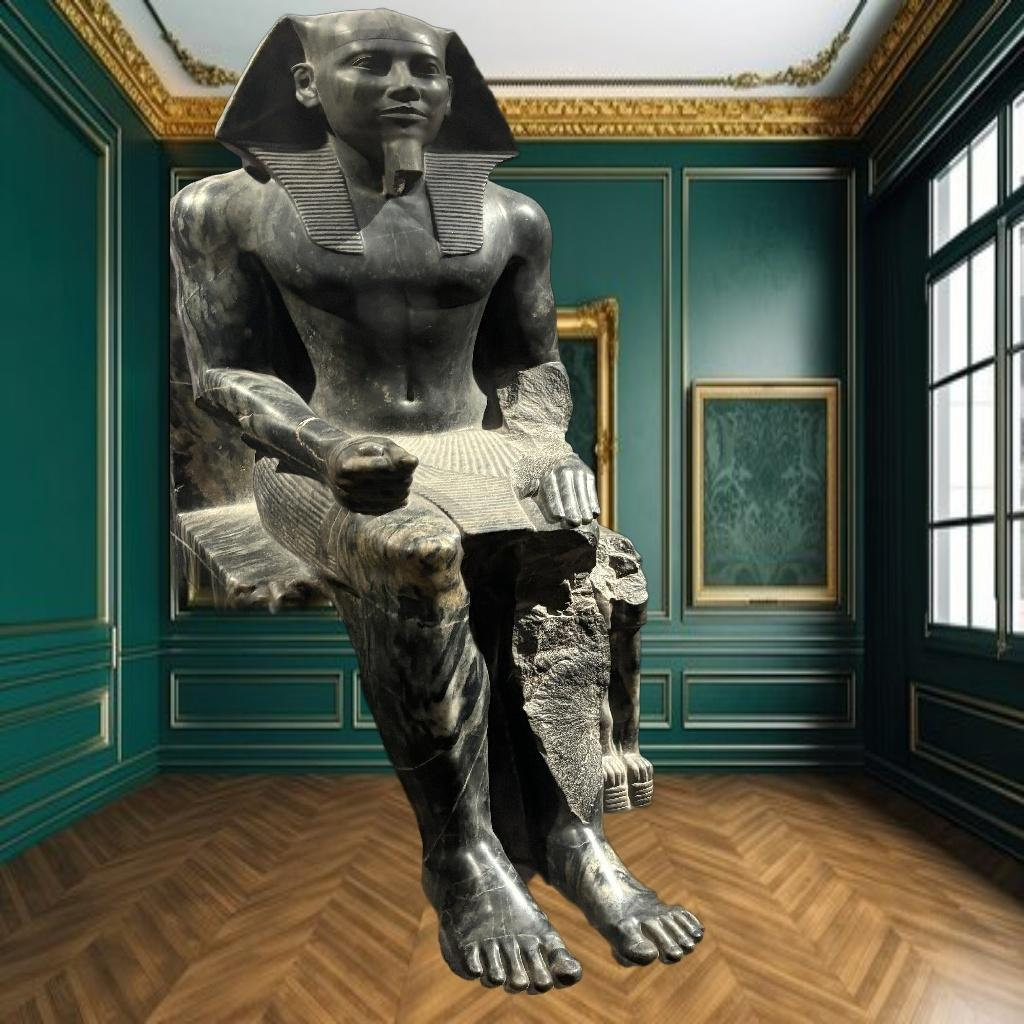Statue of Khafre: (170, 5, 714, 995)
